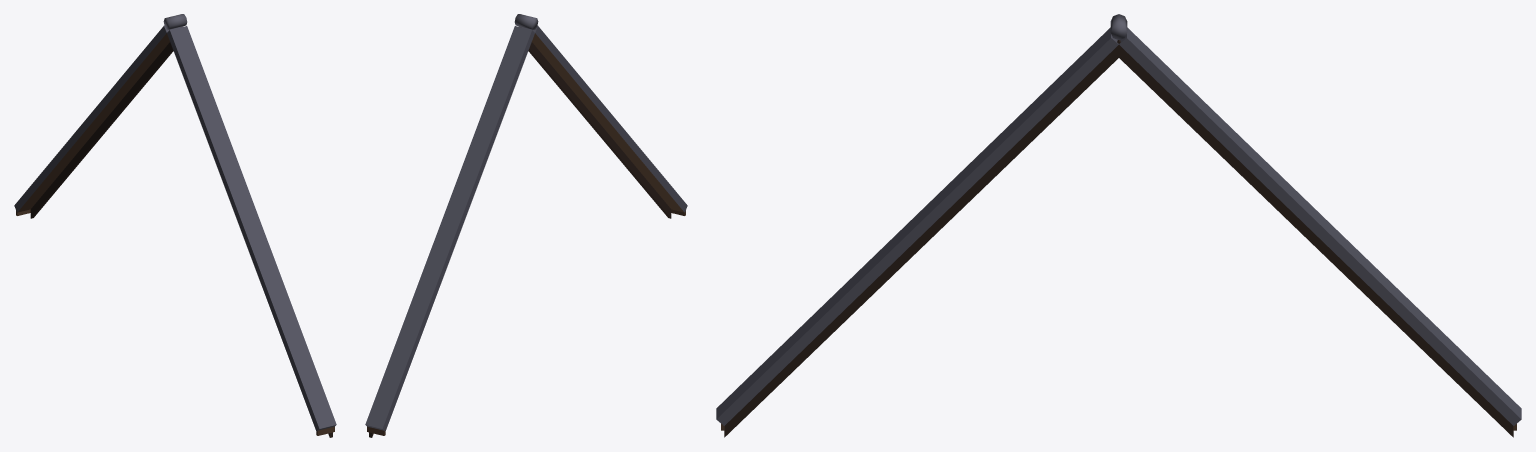
File: kit_church_slate_w6_end.glb
3 views of the same model, side by side, from view 1: azimuth 30°, elevation 25°; view 2: azimuth 150°, elevation 25°; view 3: azimuth 270°, elevation 25° (orthographic). The views are drawn at different scales.
Visible parts, largest first — view 1: kit_church_slate_w6_end; view 2: kit_church_slate_w6_end; view 3: kit_church_slate_w6_end.
Boxes of the visible parts, bbox=[...] form: kit_church_slate_w6_end: bbox=[14, 14, 336, 437]; kit_church_slate_w6_end: bbox=[365, 14, 687, 437]; kit_church_slate_w6_end: bbox=[716, 14, 1521, 437].
Size of the model in its own units: 0.22 by 3.81 by 6.73.
